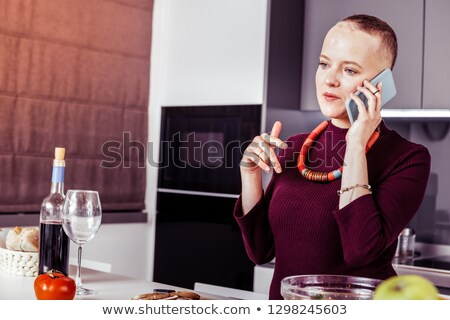phone: (347, 72, 399, 124)
talk: (312, 50, 397, 144)
